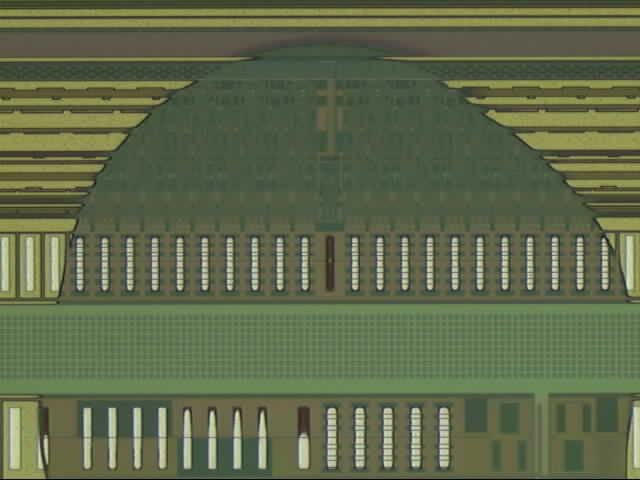COATING BAD: (35, 39, 640, 480)
